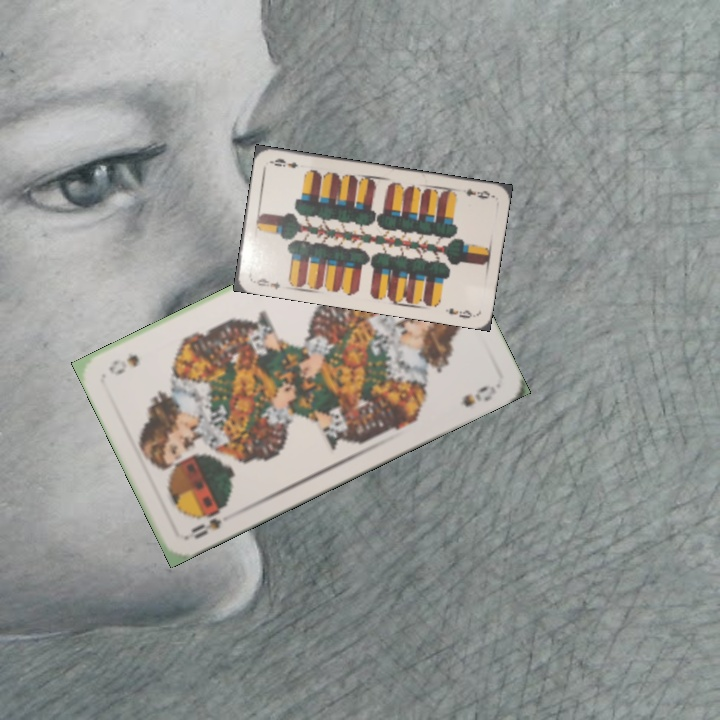E9: (249, 274, 282, 292), (462, 184, 495, 201)
SO: (183, 501, 231, 542)
